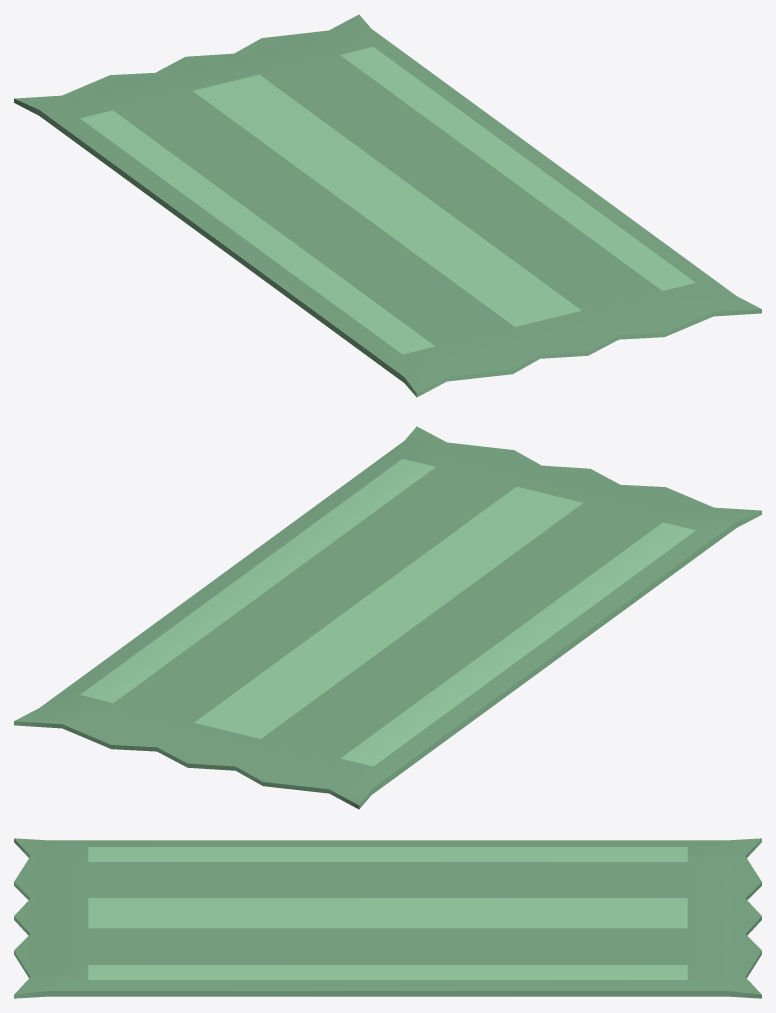
File: Rug_Model_SC.fbx
The picture shows the model from 3 angles, top to bottom: view 1: azimuth 30°, elevation 25°; view 2: azimuth 150°, elevation 25°; view 3: azimuth 270°, elevation 25°; orthographic projection. The views are drawn at different scales.
Visible parts, largest first — view 1: rug; view 2: rug; view 3: rug.
Boxes of the visible parts, bbox=[...] form: rug: bbox=[14, 14, 761, 397]; rug: bbox=[14, 426, 761, 809]; rug: bbox=[14, 838, 761, 998].
Size of the model in its own units: 0.5456 by 0.0126 by 1.1.
